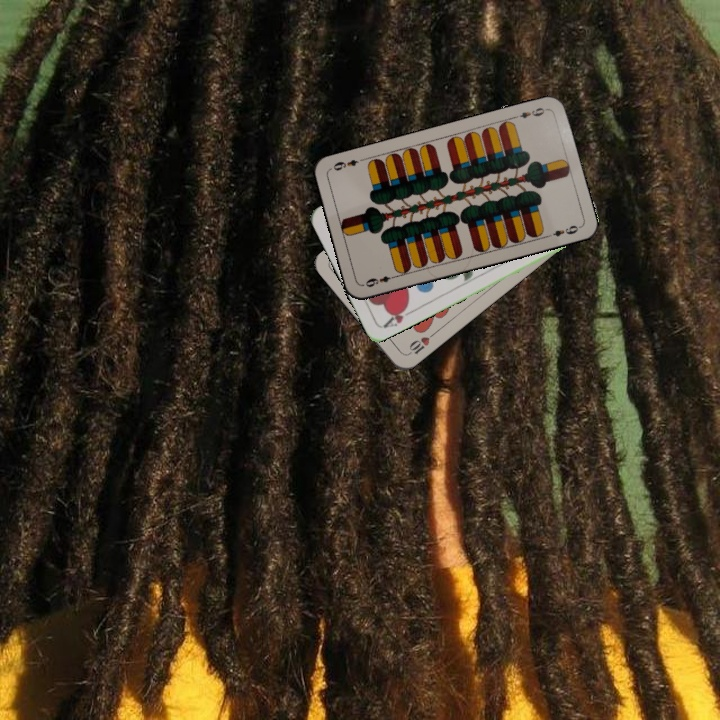E9: (361, 271, 400, 290), (509, 103, 550, 121)
H10: (403, 329, 438, 358)
HA: (379, 301, 417, 331)
